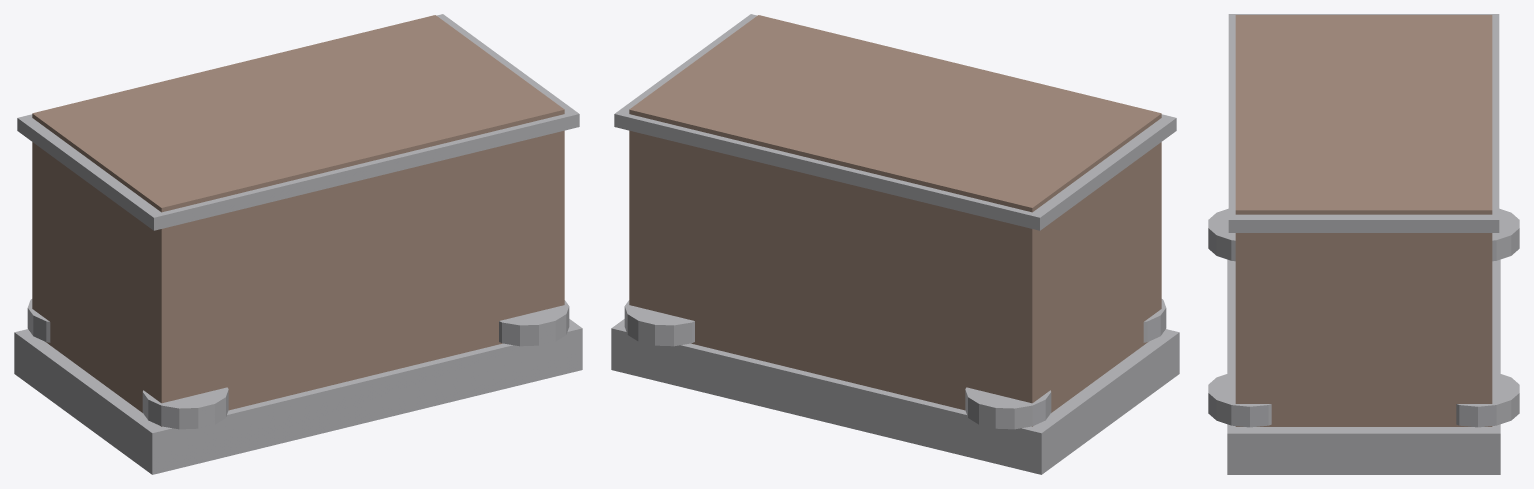
The model's file is ore_cart_uncommon.glb.
3 renders of one model, left to right at view 1: azimuth 30°, elevation 25°; view 2: azimuth 150°, elevation 25°; view 3: azimuth 270°, elevation 25°, orthographic.
Visible parts, largest first — view 1: ore_cart; view 2: ore_cart; view 3: ore_cart.
Part boxes in pixels (bbox=[...]): ore_cart: bbox=[14, 14, 582, 474]; ore_cart: bbox=[611, 14, 1179, 474]; ore_cart: bbox=[1208, 14, 1519, 474].
Size of the model in its own units: 1.73 by 1 by 1.09.
